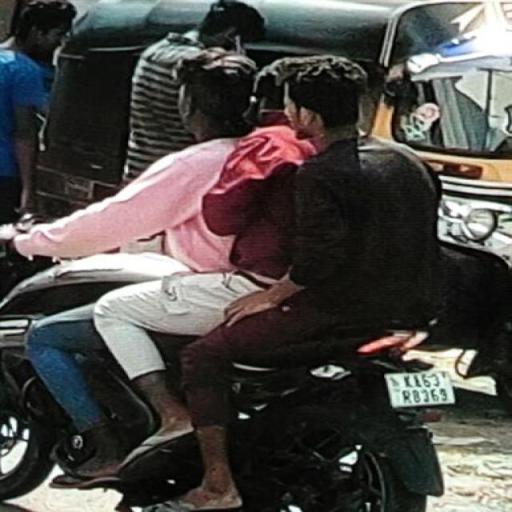tripple riding: (11, 40, 480, 364)
